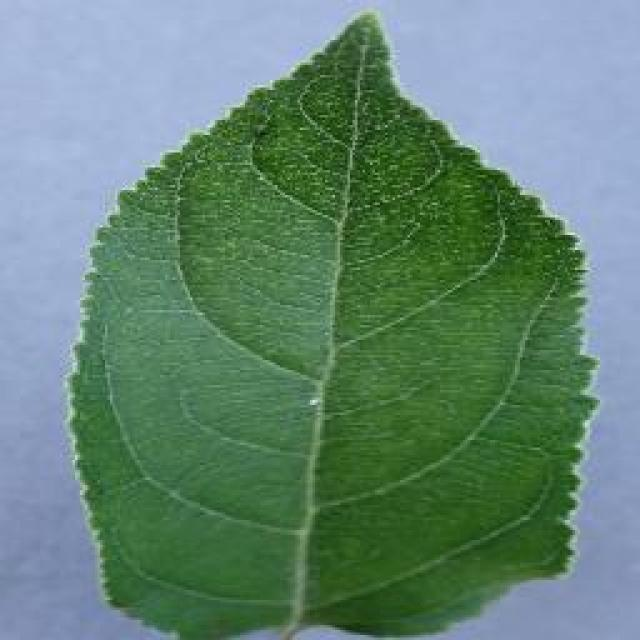apple healthy: (62, 5, 600, 637)
